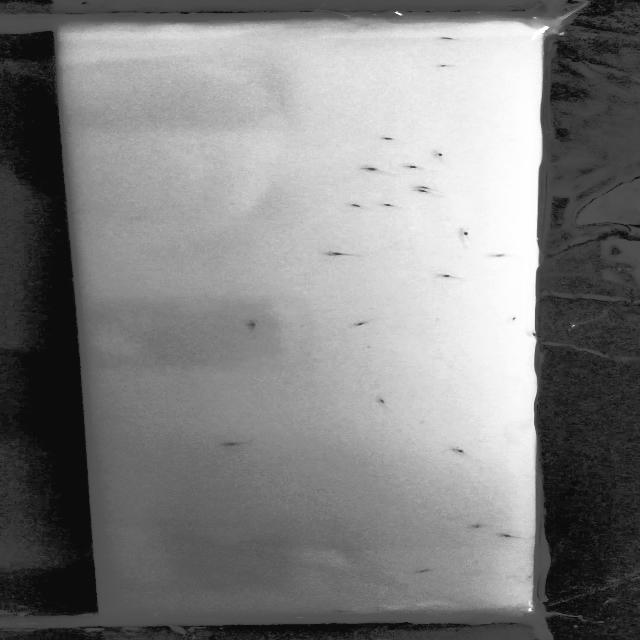shrimp: (370, 198, 400, 210), (411, 566, 443, 577), (346, 202, 373, 214), (466, 519, 488, 533), (412, 186, 437, 197), (488, 249, 512, 260), (433, 34, 462, 43), (218, 439, 243, 449), (351, 319, 373, 330), (499, 531, 521, 542), (379, 133, 399, 145), (363, 163, 383, 175), (407, 160, 425, 172), (436, 270, 456, 280), (450, 446, 470, 456), (373, 396, 395, 405), (457, 228, 476, 238), (246, 320, 265, 330), (328, 251, 352, 258), (505, 313, 520, 324), (431, 63, 454, 70), (410, 184, 433, 191), (436, 150, 449, 159)
